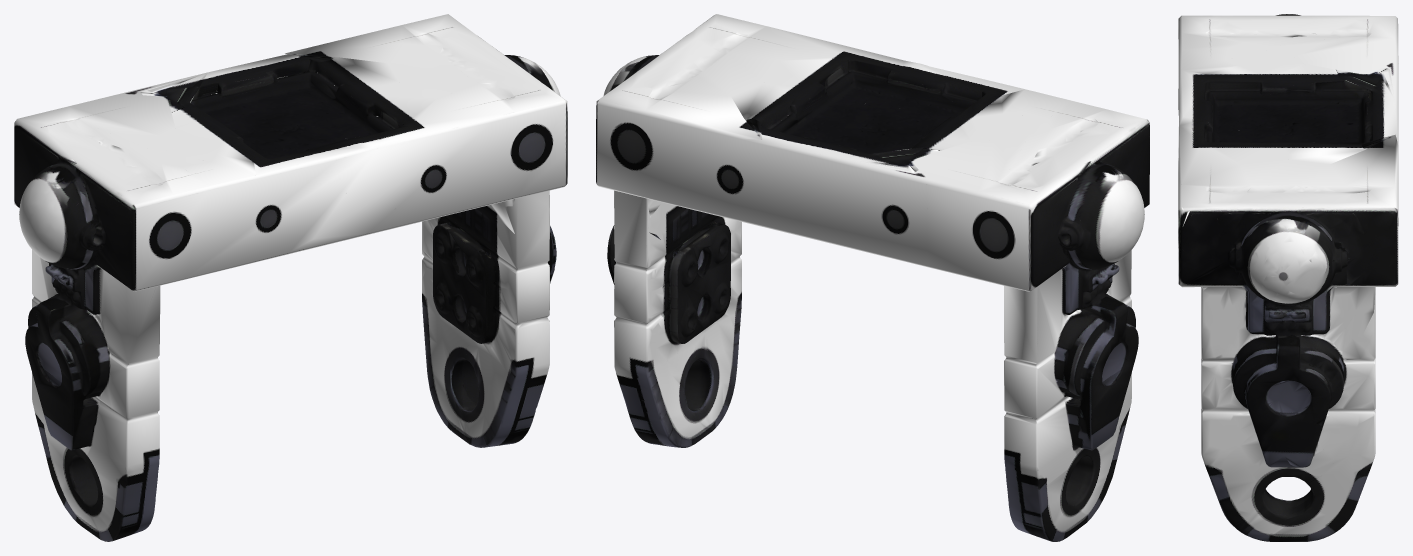
Rendered from clawhead.glb.
3 renders of one model, left to right at view 1: azimuth 30°, elevation 25°; view 2: azimuth 150°, elevation 25°; view 3: azimuth 270°, elevation 25°, orthographic. The views are drawn at different scales.
Bounding box in the file's own units: 1.9 × 1.29 × 0.7547.
1 material, 1 textured.
